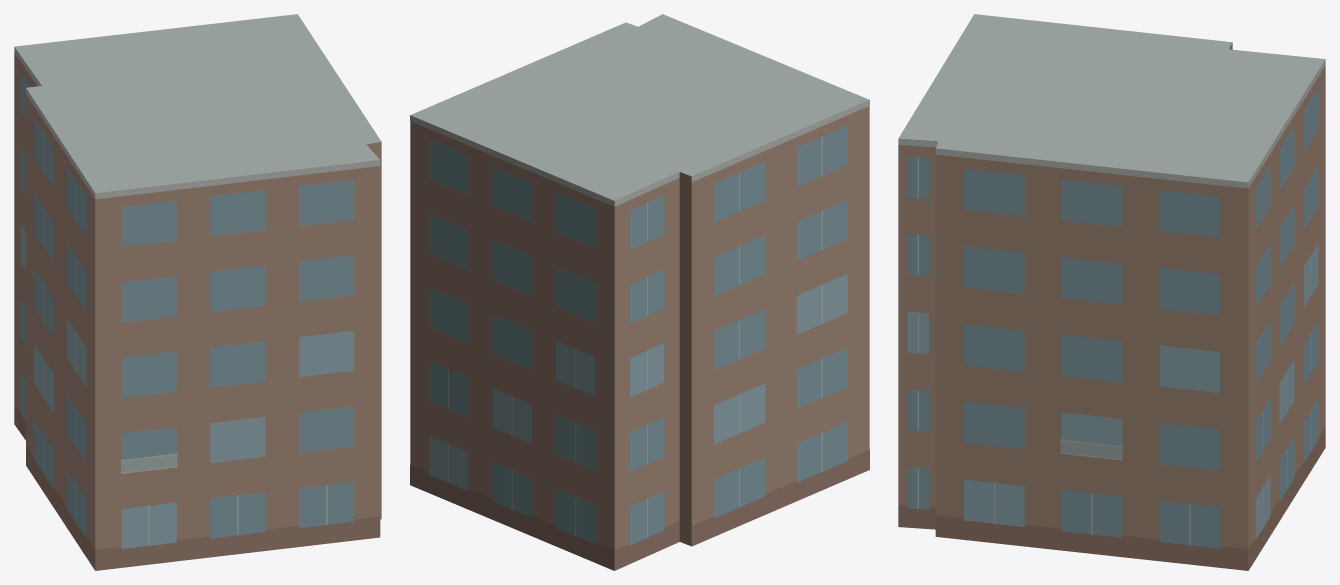
Rendered from survey-upis-32661963.glb.
3 views of the same model, side by side, from view 1: azimuth 30°, elevation 25°; view 2: azimuth 150°, elevation 25°; view 3: azimuth 270°, elevation 25° (orthographic). The views are drawn at different scales.
Parts seen in each view (by area): view 1: survey-upis-32661963.tmp; view 2: survey-upis-32661963.tmp; view 3: survey-upis-32661963.tmp.
Boxes of the visible parts, x1=… form: survey-upis-32661963.tmp: x1=14, y1=14, x2=381, y2=570; survey-upis-32661963.tmp: x1=410, y1=14, x2=869, y2=570; survey-upis-32661963.tmp: x1=898, y1=14, x2=1325, y2=570.
Size of the model in its own units: 14.2 by 15.25 by 15.22.
